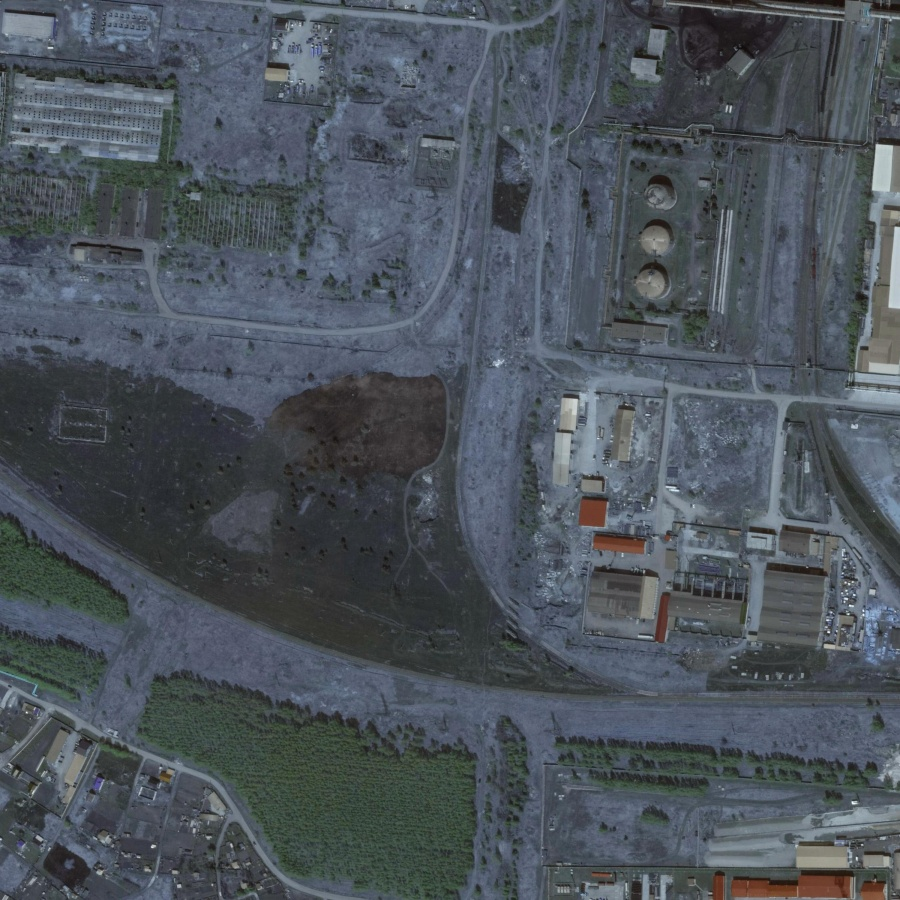PowerPlant: (595, 117, 743, 359)
